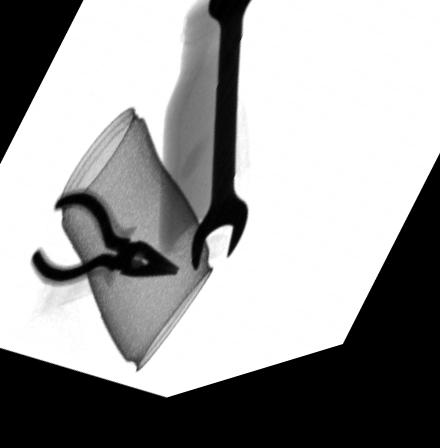Pliers: (26, 191, 178, 294)
Wrench: (188, 0, 258, 284)
